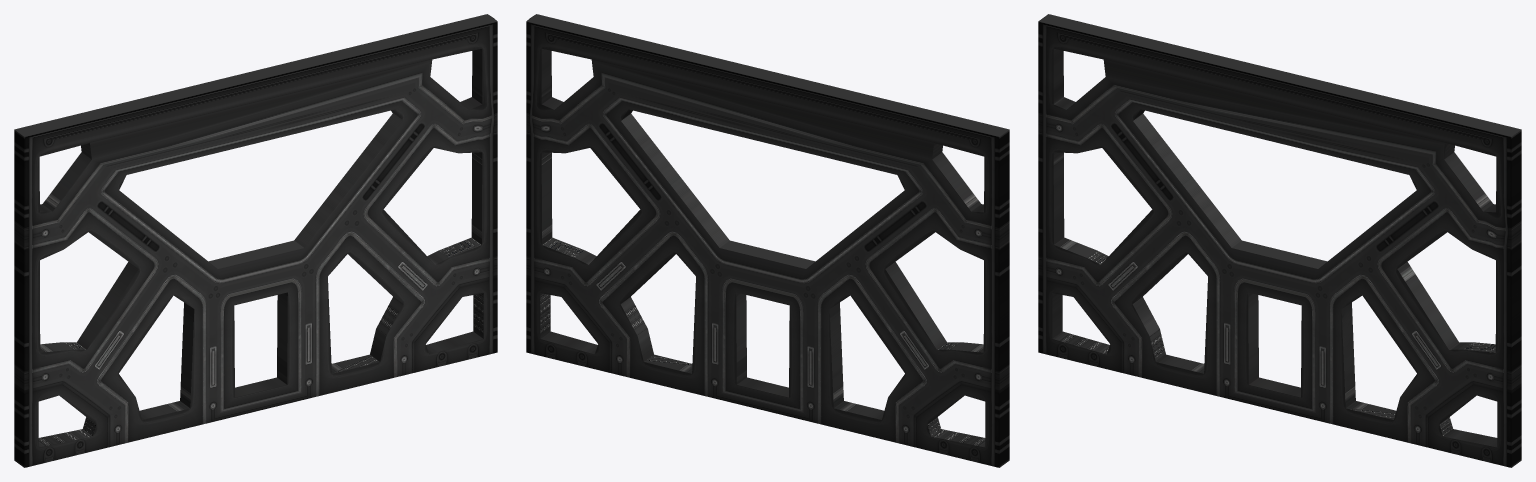
File: Panel_C_Holes_1_Proxy.FBX
The picture shows the model from 3 angles, left to right: view 1: azimuth 30°, elevation 25°; view 2: azimuth 150°, elevation 25°; view 3: azimuth 330°, elevation 25°; orthographic projection.
Visible parts, largest first — view 1: Panel_C_Holes_1_Proxy; view 2: Panel_C_Holes_1_Proxy; view 3: Panel_C_Holes_1_Proxy.
Boxes of the visible parts, box(x1,y1,x2,y2) form: Panel_C_Holes_1_Proxy: box(14, 14, 497, 467); Panel_C_Holes_1_Proxy: box(526, 14, 1009, 467); Panel_C_Holes_1_Proxy: box(1038, 14, 1521, 467).
Bounding box in the file's own units: 300 × 200 × 11.23.
